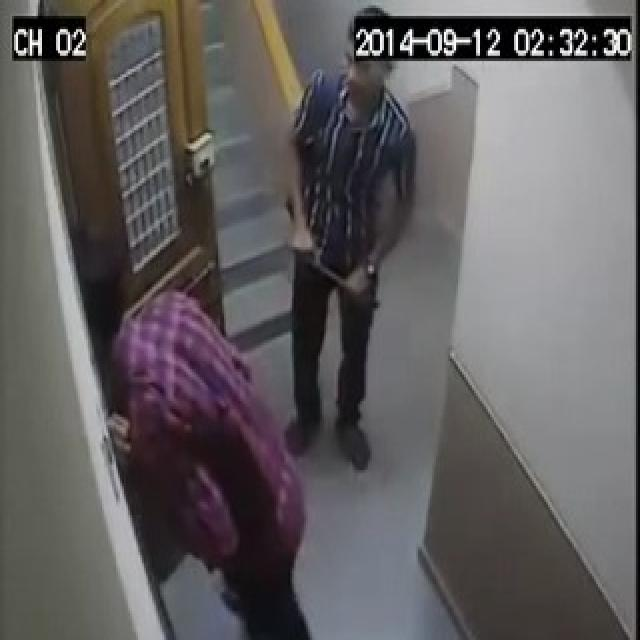thief: (70, 231, 328, 639), (278, 14, 407, 471)
